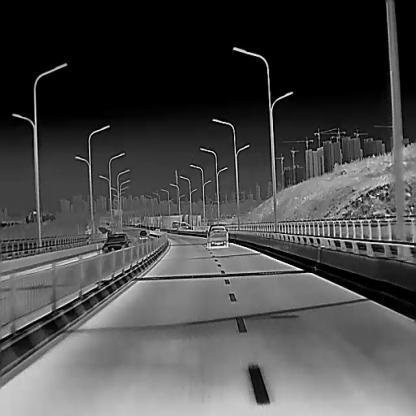car: (101, 232, 131, 252), (206, 224, 228, 249), (178, 220, 191, 229), (139, 228, 147, 238)
